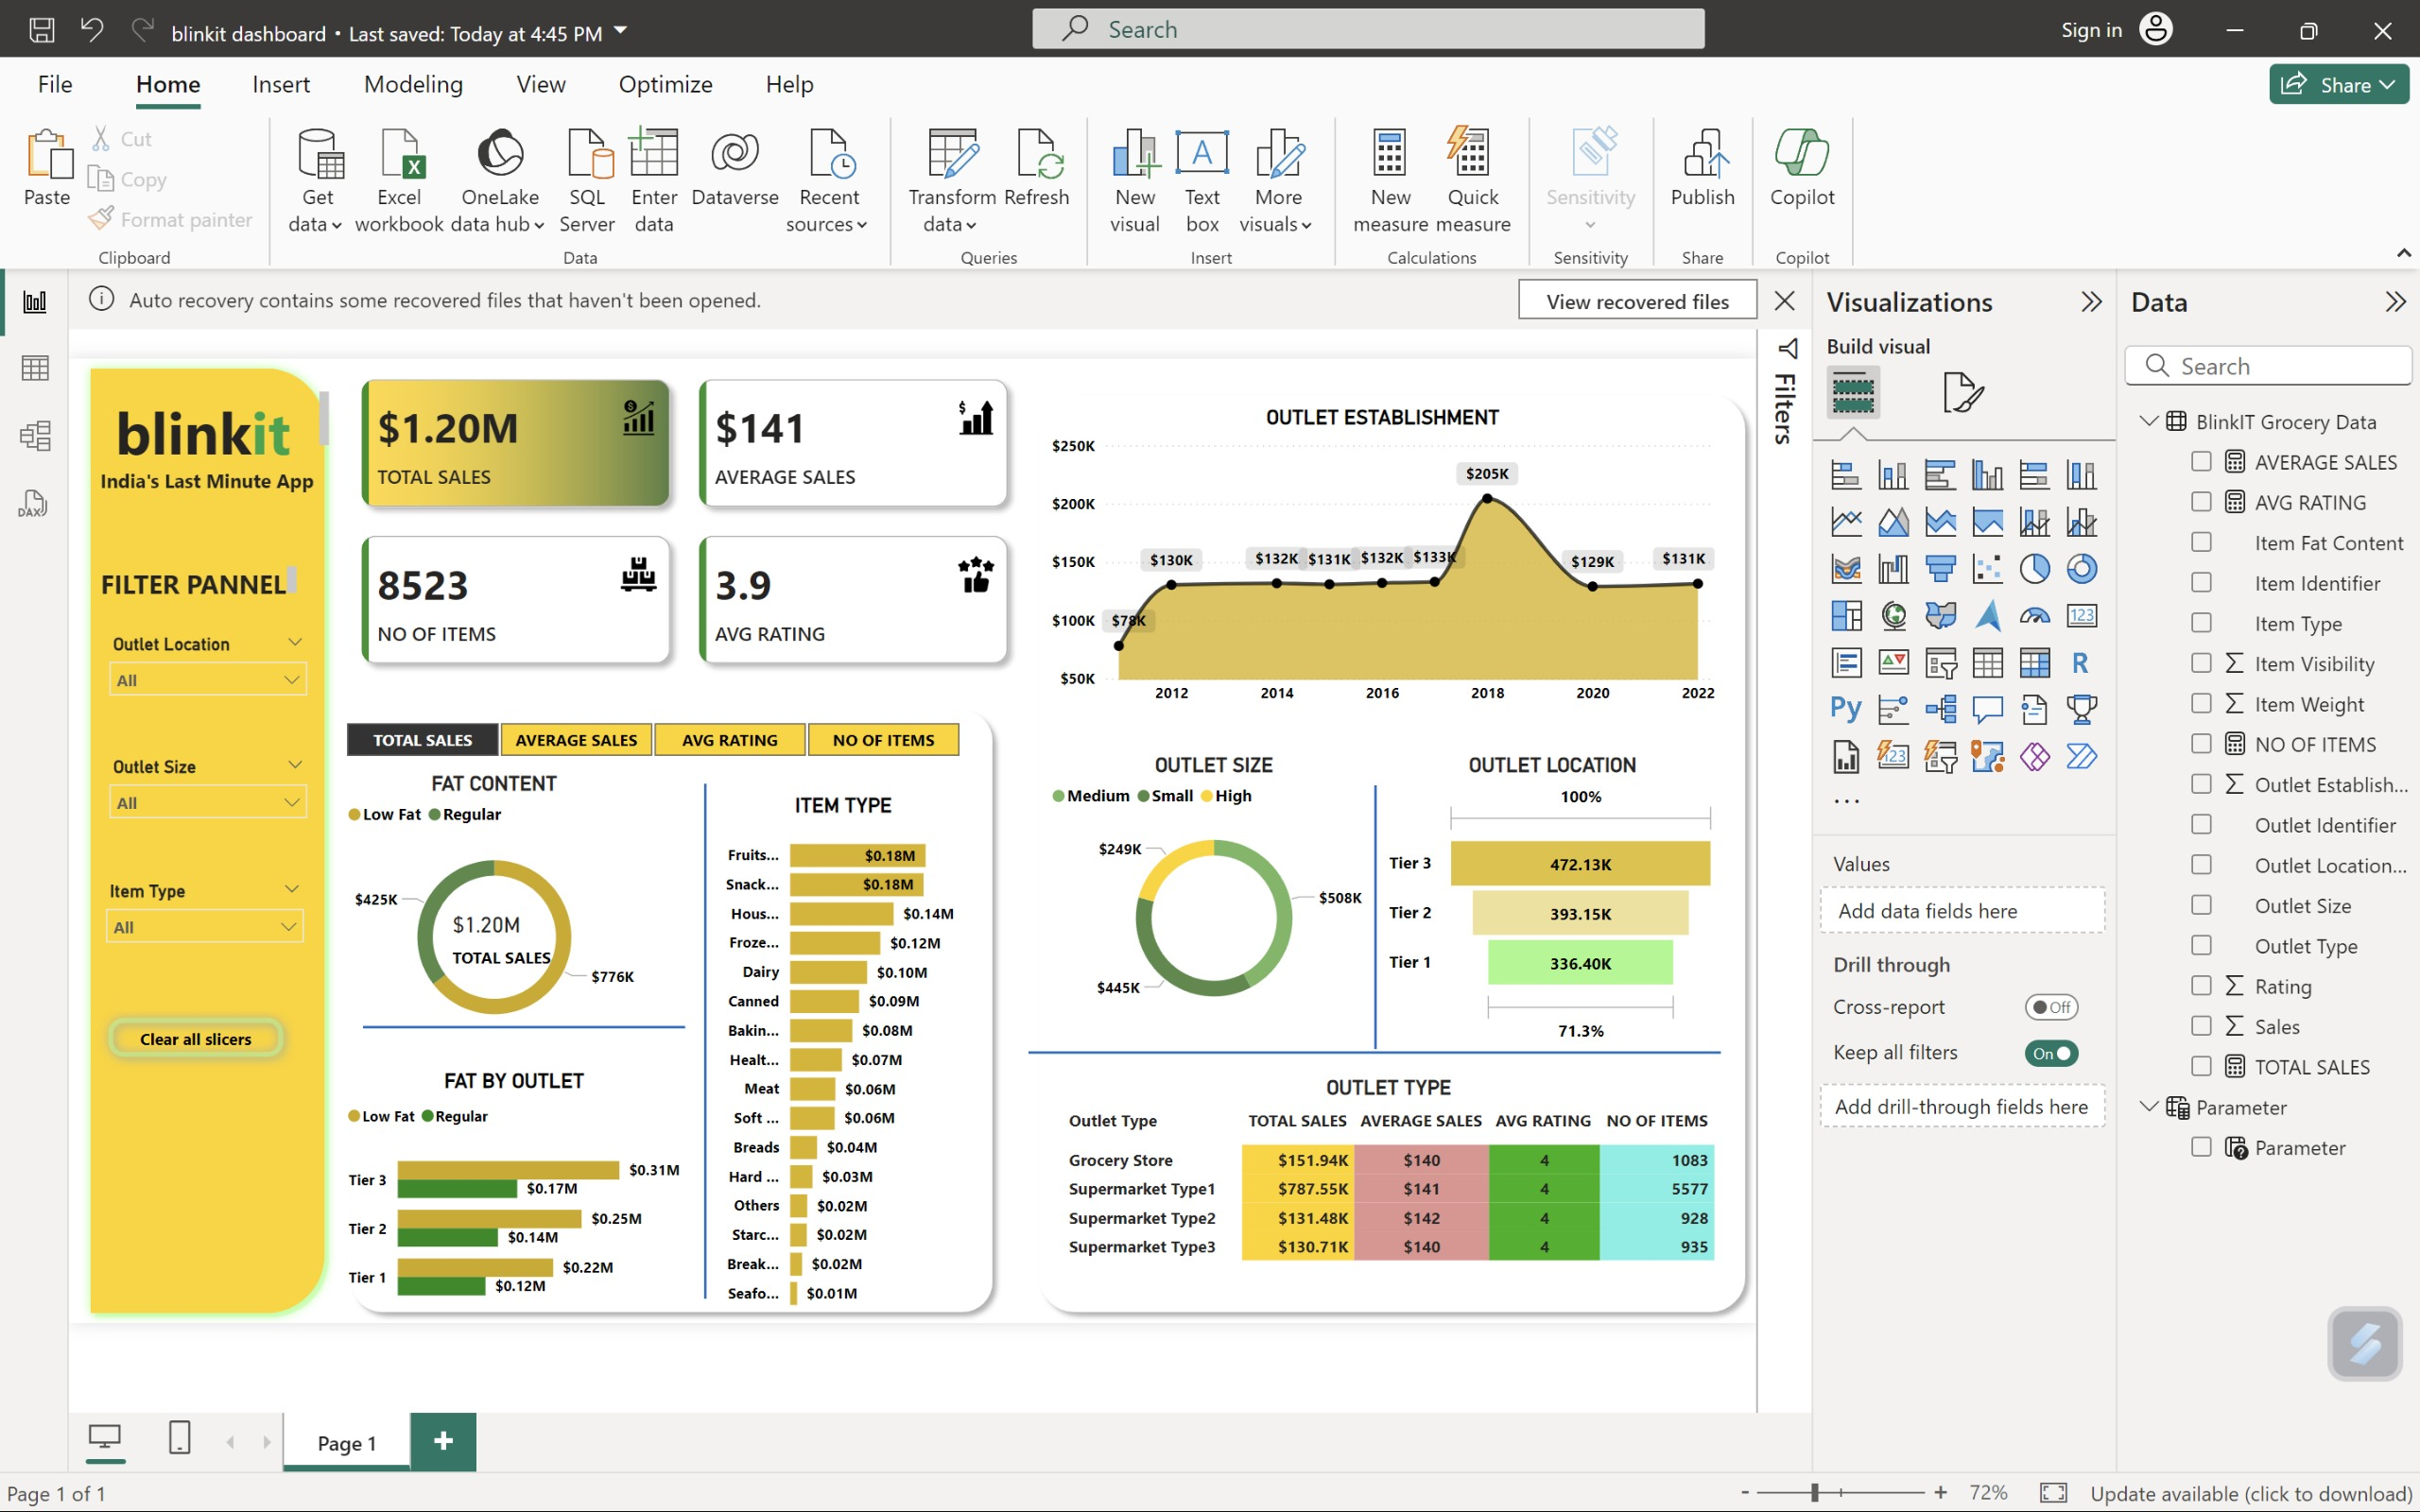

The page's visual inventory and layout, read from the dashboard file:
{"tool":"powerbi","page":{"name":"Page 1","canvas":[1400,800],"ordinal":0},"visuals":[{"type":"shape","box":[9.8,0,210.6,800.4],"z":0},{"type":"textbox","box":[10.1,21.7,210.9,63.6],"z":1000},{"type":"textbox","box":[4.3,85.2,221.1,37.6],"z":2000},{"type":"cardVisual","fields":{"Data":["BlinkIT Grocery Data.Total sales","BlinkIT Grocery Data.AVERAGE SALES","BlinkIT Grocery Data.NUMBER OF ITEMS","BlinkIT Grocery Data.AVG RATING"]},"box":[225.4,0,570.7,270.2],"z":3000},{"type":"shape","box":[225.9,283.1,549.4,517.3],"z":4000},{"type":"donutChart","title":"FAT CONTENT","fields":{"Y":["BlinkIT Grocery Data.TOTAL SALES"],"Category":["BlinkIT Grocery Data.Item Fat Content"]},"box":[225.4,342.4,254.3,229.7],"z":5000},{"type":"slicer","fields":{"Values":["Parameter.Parameter"]},"box":[205,295.6,557.8,37.6],"z":6000},{"type":"cardVisual","fields":{"Data":["BlinkIT Grocery Data.TOTAL SALES"]},"box":[300.5,442.1,124.3,78],"z":7000},{"type":"clusteredBarChart","title":"FAT BY OUTLET","fields":{"Y":["BlinkIT Grocery Data.TOTAL SALES"],"Category":["BlinkIT Grocery Data.Outlet Location Type"],"Series":["BlinkIT Grocery Data.Item Fat Content"]},"box":[225.9,589.8,287.3,210.6],"z":8000},{"type":"shape","box":[244.2,538.9,267.3,33.2],"z":9000},{"type":"shape","box":[1077.9,324.9,12.5,246.8],"z":10000},{"type":"clusteredBarChart","title":"ITEM TYPE","fields":{"Y":["BlinkIT Grocery Data.TOTAL SALES"],"Category":["BlinkIT Grocery Data.Item Type"]},"box":[528.5,361.2,228.7,439.2],"z":11000},{"type":"shape","box":[796.2,20.9,603.8,779.5],"z":12000},{"type":"lineChart","title":"OUTLET ESTABLISHMENT ","fields":{"Y":["BlinkIT Grocery Data.TOTAL SALES"],"Category":["BlinkIT Grocery Data.Outlet Establishment Year"]},"box":[810.2,39,560.6,256.6],"z":13000},{"type":"donutChart","title":"OUTLET SIZE","fields":{"Y":["BlinkIT Grocery Data.TOTAL SALES"],"Category":["BlinkIT Grocery Data.Outlet Size"]},"box":[810.2,327.7,280.3,228.7],"z":14000},{"type":"funnel","title":" OUTLET LOCATION","fields":{"Y":["Sum(BlinkIT Grocery Data.Sales)"],"Category":["BlinkIT Grocery Data.Outlet Location Type"]},"box":[1090.4,327.7,281.7,245.4],"z":15000},{"type":"shape","box":[521.5,352.4,13,427.7],"z":16000},{"type":"shape","box":[1077.9,354.2,12.5,218.9],"z":17000},{"type":"shape","box":[810.2,557.8,562,36.3],"z":18000},{"type":"pivotTable","title":"OUTLET TYPE","fields":{"Rows":["BlinkIT Grocery Data.Outlet Type"],"Values":["BlinkIT Grocery Data.TOTAL SALES","BlinkIT Grocery Data.AVERAGE SALES","BlinkIT Grocery Data.AVG RATING","BlinkIT Grocery Data.NO OF ITEMS"]},"box":[819.9,595.4,550.8,186.9],"z":19000},{"type":"slicer","fields":{"Values":["BlinkIT Grocery Data.Outlet Location Type"]},"box":[23.7,223.1,184.1,72.5],"z":20000},{"type":"slicer","fields":{"Values":["BlinkIT Grocery Data.Outlet Size"]},"box":[23.7,324.9,184.1,72.5],"z":21000},{"type":"slicer","fields":{"Values":["BlinkIT Grocery Data.Item Type"]},"box":[20.9,428.1,184.1,72.5],"z":22000},{"type":"actionButton","box":[23.7,538.2,163.1,50.2],"z":23000},{"type":"textbox","box":[20.9,167.3,172.9,34.9],"z":24000}]}

Visuals, with their boxes on the page's 1400x800 design canvas (x1, y1, x2, y2). These are canvas units, not pixel positions in the 2420x1512 screenshot, which may show the page scaled, cropped or inside an application window:
shape: x1=10 y1=0 x2=220 y2=800
textbox: x1=10 y1=22 x2=221 y2=85
textbox: x1=4 y1=85 x2=225 y2=123
cardVisual - BlinkIT Grocery Data.Total sales x BlinkIT Grocery Data.AVERAGE SALES: x1=225 y1=0 x2=796 y2=270
shape: x1=226 y1=283 x2=775 y2=800
"FAT CONTENT" donutChart: x1=225 y1=342 x2=480 y2=572
slicer - Parameter.Parameter: x1=205 y1=296 x2=763 y2=333
cardVisual - BlinkIT Grocery Data.TOTAL SALES: x1=300 y1=442 x2=425 y2=520
"FAT BY OUTLET" clusteredBarChart: x1=226 y1=590 x2=513 y2=800
shape: x1=244 y1=539 x2=512 y2=572
shape: x1=1078 y1=325 x2=1090 y2=572
"ITEM TYPE" clusteredBarChart: x1=528 y1=361 x2=757 y2=800
shape: x1=796 y1=21 x2=1400 y2=800
"OUTLET ESTABLISHMENT " lineChart: x1=810 y1=39 x2=1371 y2=296
"OUTLET SIZE" donutChart: x1=810 y1=328 x2=1090 y2=556
" OUTLET LOCATION" funnel: x1=1090 y1=328 x2=1372 y2=573
shape: x1=522 y1=352 x2=534 y2=780
shape: x1=1078 y1=354 x2=1090 y2=573
shape: x1=810 y1=558 x2=1372 y2=594
"OUTLET TYPE" pivotTable: x1=820 y1=595 x2=1371 y2=782
slicer - BlinkIT Grocery Data.Outlet Location Type: x1=24 y1=223 x2=208 y2=296
slicer - BlinkIT Grocery Data.Outlet Size: x1=24 y1=325 x2=208 y2=397
slicer - BlinkIT Grocery Data.Item Type: x1=21 y1=428 x2=205 y2=501
actionButton: x1=24 y1=538 x2=187 y2=588
textbox: x1=21 y1=167 x2=194 y2=202
